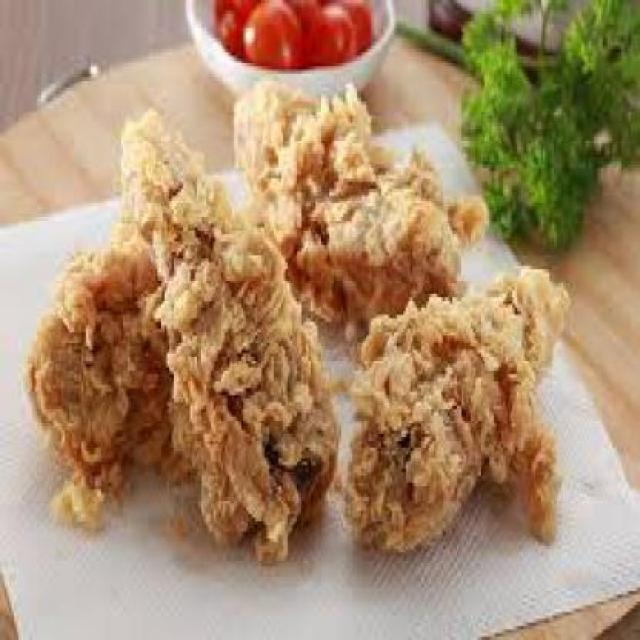Chicken -Fried Chicken-: (230, 96, 558, 546), (120, 109, 338, 560), (31, 182, 232, 524), (342, 270, 566, 552)
